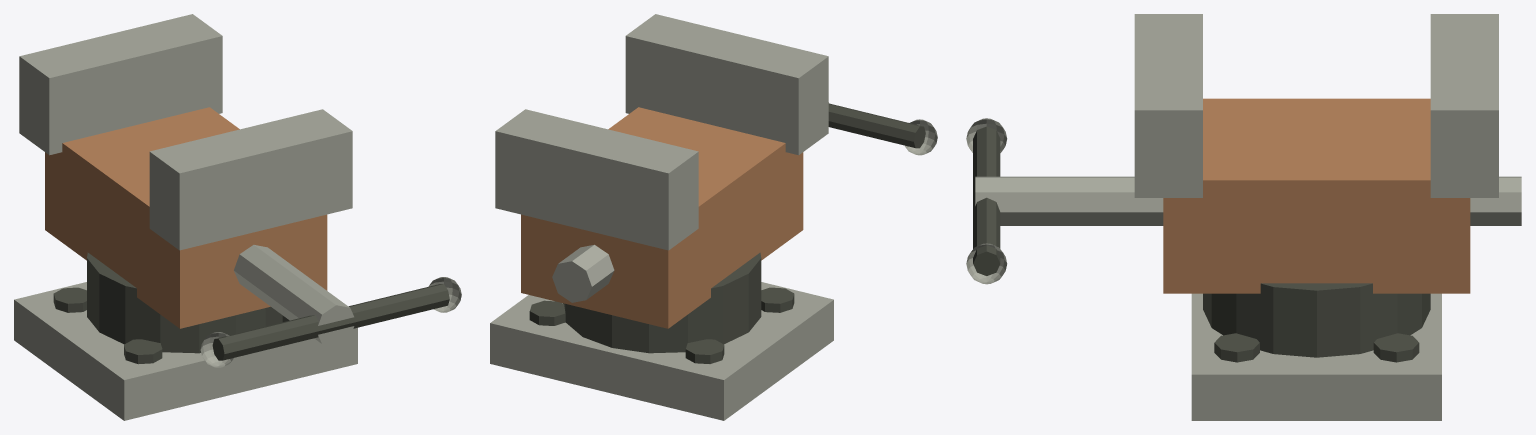
Rendered from reclamation-yard-steel-bench-vice__230.glb.
The picture shows the model from 3 angles, left to right: view 1: azimuth 30°, elevation 25°; view 2: azimuth 150°, elevation 25°; view 3: azimuth 270°, elevation 25°; orthographic projection. The views are drawn at different scales.
Visible parts, largest first — view 1: metal, accent, dark; view 2: metal, accent, dark; view 3: metal, accent, dark.
Boxes of the visible parts, x1,y1,x2,y2 form: metal: [14, 14, 461, 420]; accent: [45, 107, 327, 328]; dark: [53, 252, 449, 364]; metal: [490, 14, 937, 420]; accent: [521, 107, 803, 328]; dark: [529, 103, 925, 363]; metal: [966, 14, 1521, 420]; accent: [1163, 98, 1470, 293]; dark: [973, 126, 1430, 362].
Bounding box in the file's own units: 0.296 × 0.285 × 0.488.
